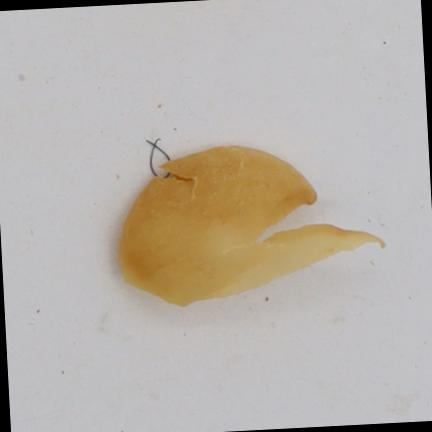parchment: (120, 146, 384, 305)
